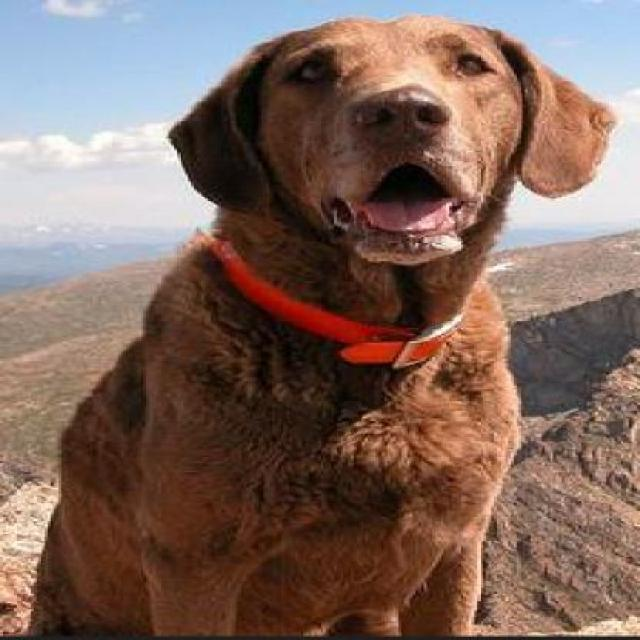Dog: (28, 17, 622, 638)
